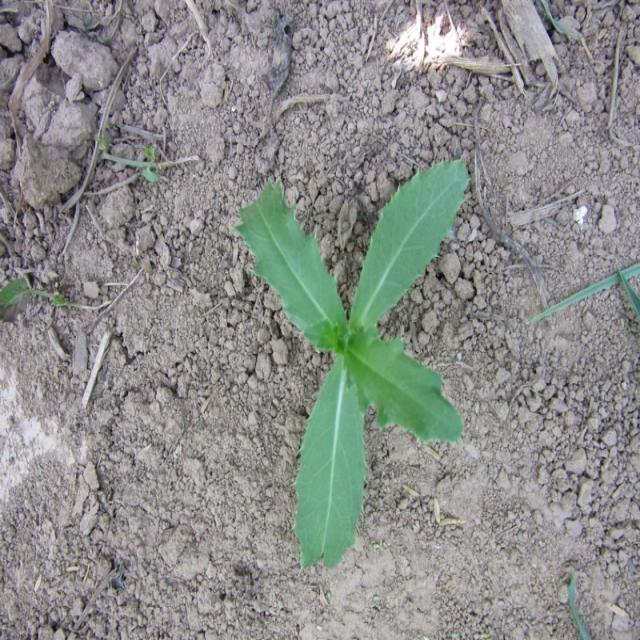field_thistle: (182, 111, 518, 592)
